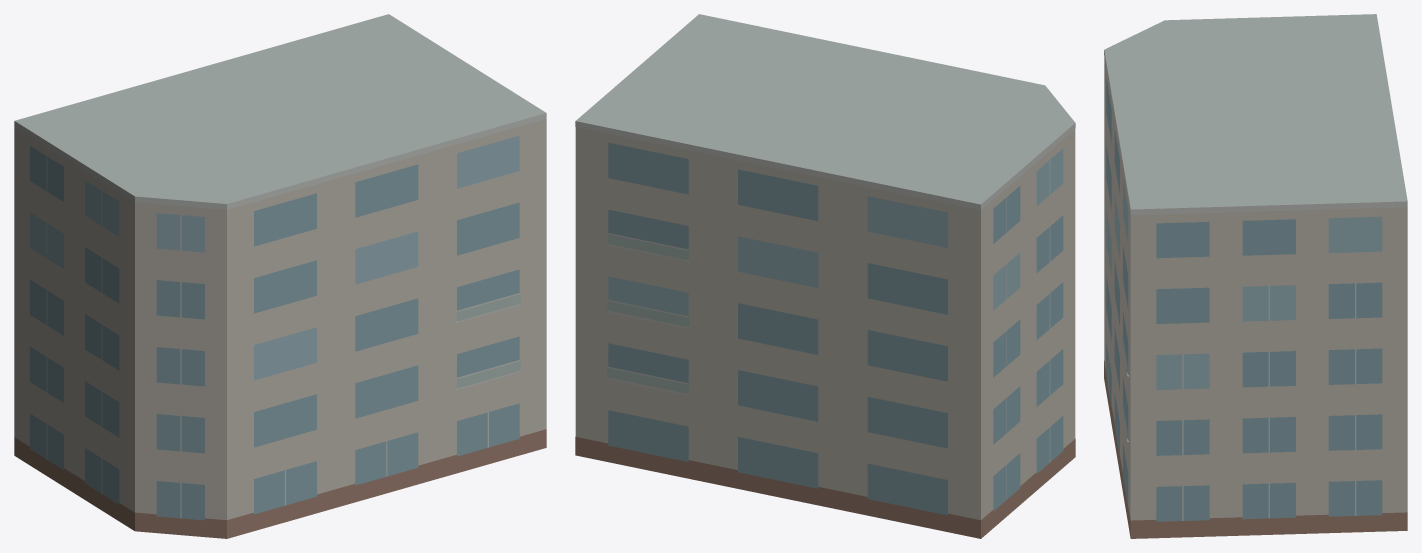
Rendered from survey-upis-32987060.glb.
3 views of the same model, side by side, from view 1: azimuth 30°, elevation 25°; view 2: azimuth 150°, elevation 25°; view 3: azimuth 270°, elevation 25° (orthographic).
Parts seen in each view (by area): view 1: survey-upis-32987060.tmp; view 2: survey-upis-32987060.tmp; view 3: survey-upis-32987060.tmp.
Boxes of the visible parts, x1,y1,x2,y2 form: survey-upis-32987060.tmp: (14, 14, 546, 538); survey-upis-32987060.tmp: (575, 14, 1075, 538); survey-upis-32987060.tmp: (1104, 14, 1407, 538).
Size of the model in its own units: 17.89 by 14.05 by 11.74.
